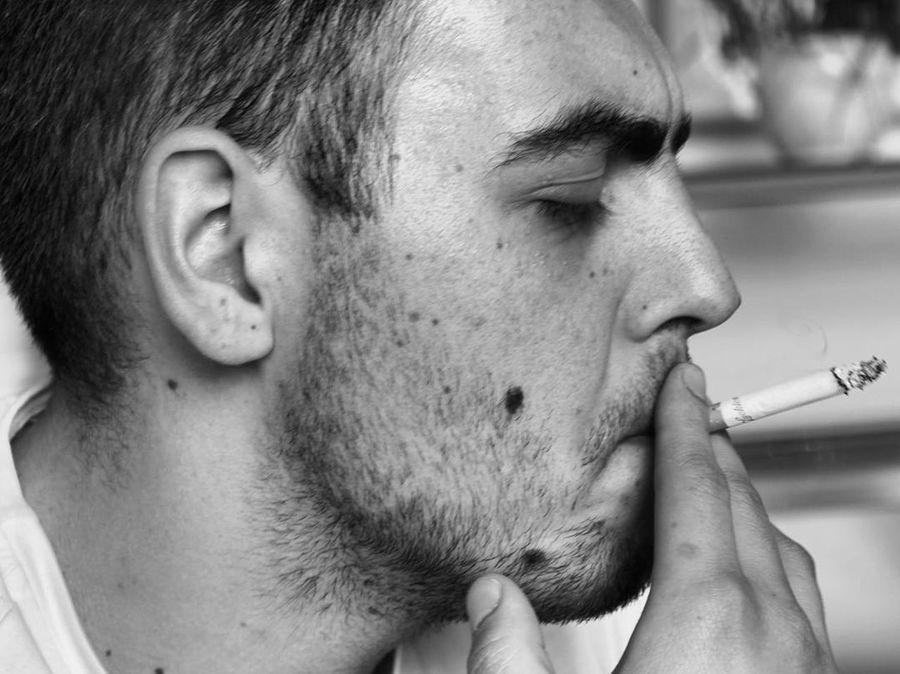cigarette: (704, 356, 890, 436)
